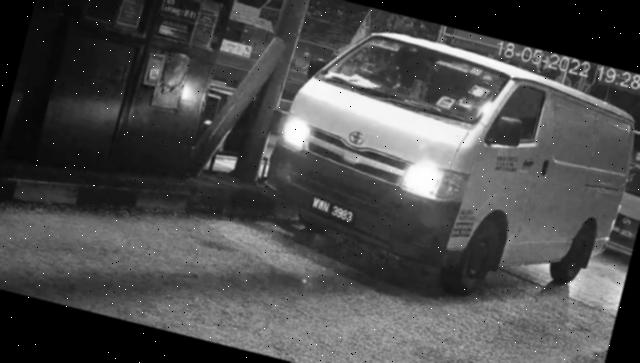License_Plate: (306, 193, 361, 231)
van: (250, 11, 640, 327)
